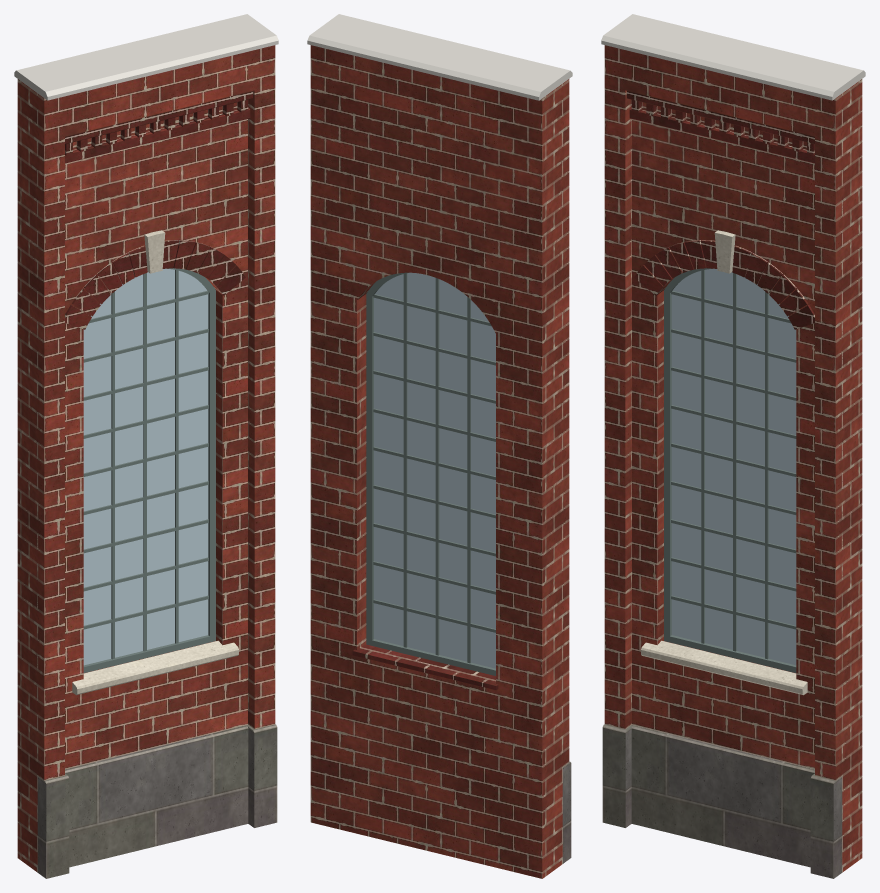
Rendered from h_back_window.glb.
The picture shows the model from 3 angles, left to right: view 1: azimuth 30°, elevation 25°; view 2: azimuth 150°, elevation 25°; view 3: azimuth 330°, elevation 25°; orthographic projection.
Parts seen in each view (by area): view 1: h_back_window_brick, h_back_window_glass, h_back_window_plinth, h_back_window_wframe, h_back_window_brick2, h_back_window_coping, h_back_window_trim; view 2: h_back_window_brick, h_back_window_glass, h_back_window_wframe, h_back_window_coping, h_back_window_brick2, h_back_window_plinth; view 3: h_back_window_brick, h_back_window_glass, h_back_window_plinth, h_back_window_wframe, h_back_window_brick2, h_back_window_coping, h_back_window_trim.
Part boxes in pixels (x1,y1,x2,y2): h_back_window_brick: (17,45,275,872); h_back_window_glass: (83,268,208,665); h_back_window_plinth: (37,724,277,878); h_back_window_wframe: (83,268,215,672); h_back_window_brick2: (65,91,252,329); h_back_window_coping: (14,14,278,100); h_back_window_trim: (72,230,238,695); h_back_window_brick: (310,45,569,878); h_back_window_glass: (374,272,495,668); h_back_window_wframe: (366,272,495,675); h_back_window_coping: (307,14,572,100); h_back_window_brick2: (352,644,498,690); h_back_window_plinth: (562,761,571,863); h_back_window_brick: (604,45,862,872); h_back_window_glass: (671,268,796,665); h_back_window_plinth: (602,724,842,878); h_back_window_wframe: (664,268,796,672); h_back_window_brick2: (627,91,814,329); h_back_window_coping: (601,14,865,100); h_back_window_trim: (641,230,807,695).
Size of the model in its own units: 2 by 6.5 by 0.5.
Materials: 7 (4 with a texture image).
